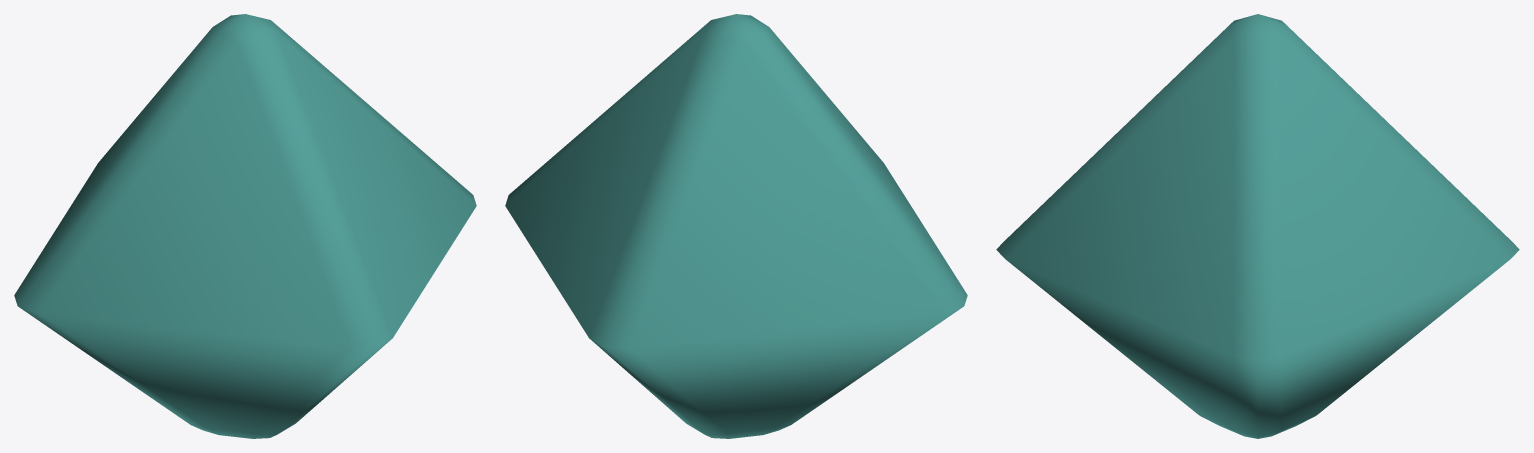
File: token_gem.glb
3 views of the same model, side by side, from view 1: azimuth 30°, elevation 25°; view 2: azimuth 150°, elevation 25°; view 3: azimuth 270°, elevation 25° (orthographic).
Visible parts, largest first — view 1: Token_Body.003; view 2: Token_Body.003; view 3: Token_Body.003.
Boxes of the visible parts, x1,y1,x2,y2 form: Token_Body.003: (14, 14, 476, 438); Token_Body.003: (505, 14, 967, 438); Token_Body.003: (996, 14, 1519, 438).
Size of the model in its own units: 0.3227 by 0.2801 by 0.3227.
